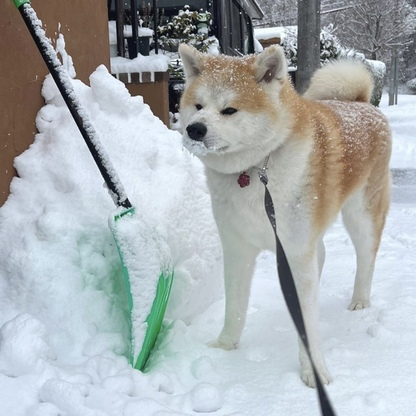akita: (162, 28, 402, 396)
